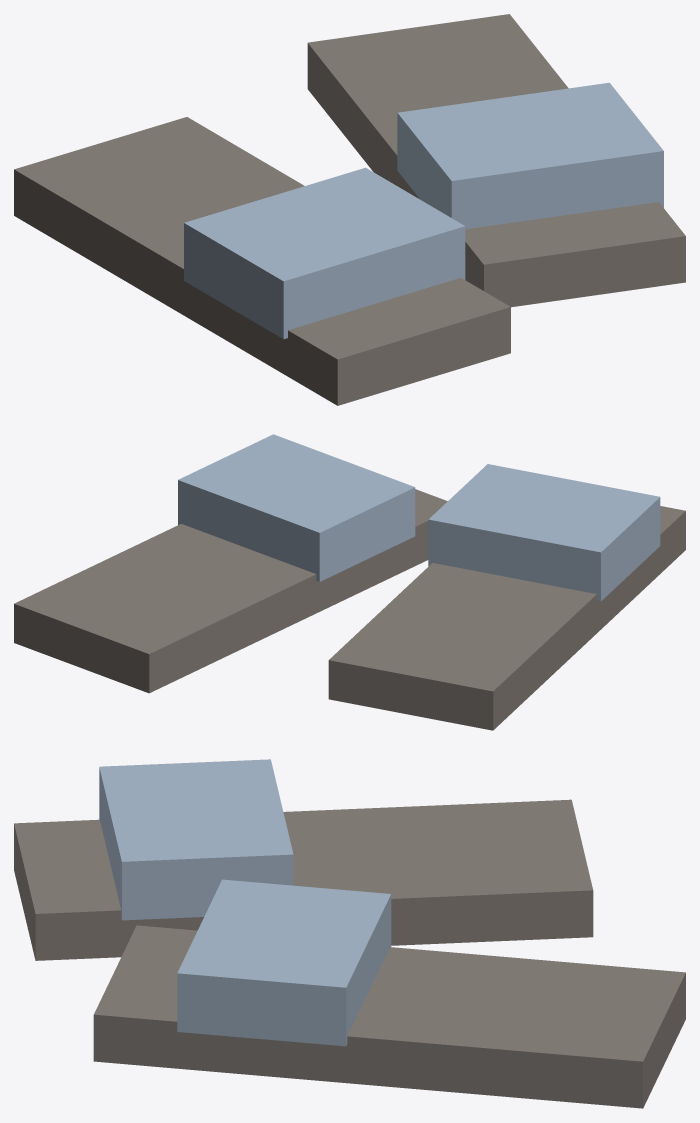
The model's file is dn_slippers.fbx.
The picture shows the model from 3 angles, top to bottom: view 1: azimuth 30°, elevation 25°; view 2: azimuth 150°, elevation 25°; view 3: azimuth 270°, elevation 25°; orthographic projection. The views are drawn at different scales.
Parts seen in each view (by area): view 1: Sole0, Sole1, Strap0, Strap1; view 2: Sole1, Sole0, Strap1, Strap0; view 3: Sole1, Sole0, Strap1, Strap0.
Boxes of the visible parts, x1,y1,x2,y2 form: Sole0: [14, 117, 510, 405]; Sole1: [307, 14, 685, 307]; Strap0: [184, 167, 465, 339]; Strap1: [397, 82, 663, 229]; Sole1: [14, 489, 447, 693]; Sole0: [328, 506, 685, 730]; Strap1: [178, 434, 415, 581]; Strap0: [428, 464, 660, 601]; Sole1: [93, 925, 685, 1108]; Sole0: [14, 799, 593, 960]; Strap1: [177, 879, 391, 1046]; Strap0: [99, 759, 293, 920].
Bounding box in the file's own units: 0.2876 × 0.05 × 0.3117.
